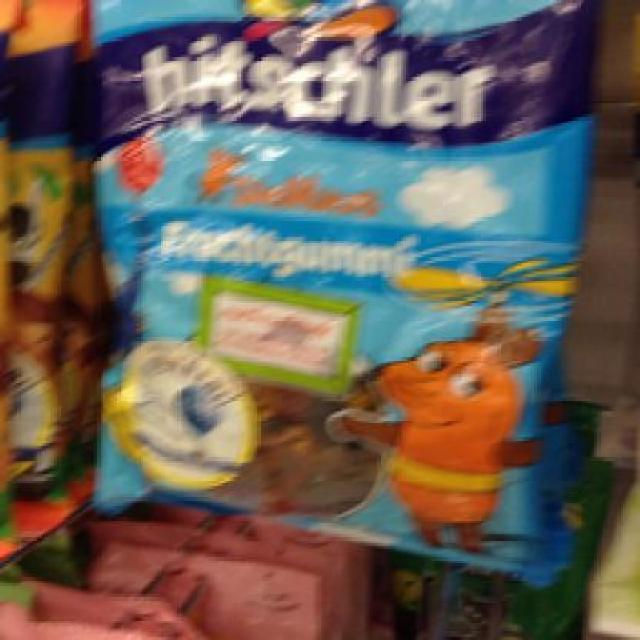Candy: (87, 0, 586, 575)
